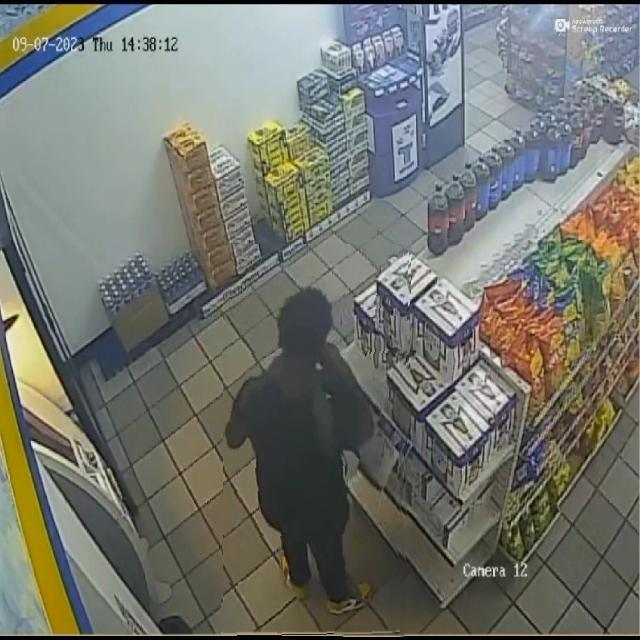normal: (223, 244, 409, 637)
